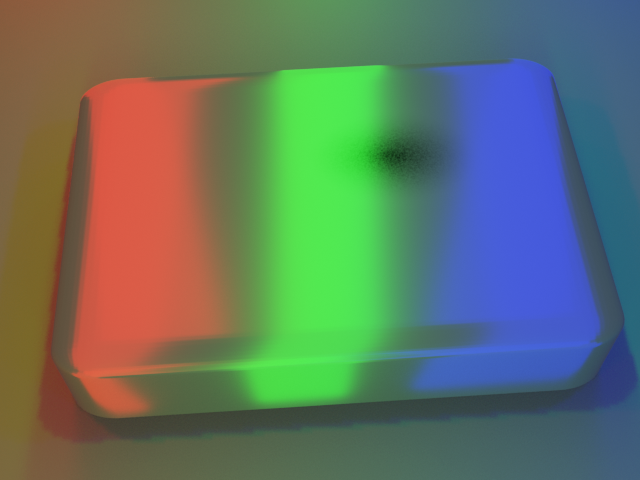stain: (280, 83, 525, 214)
